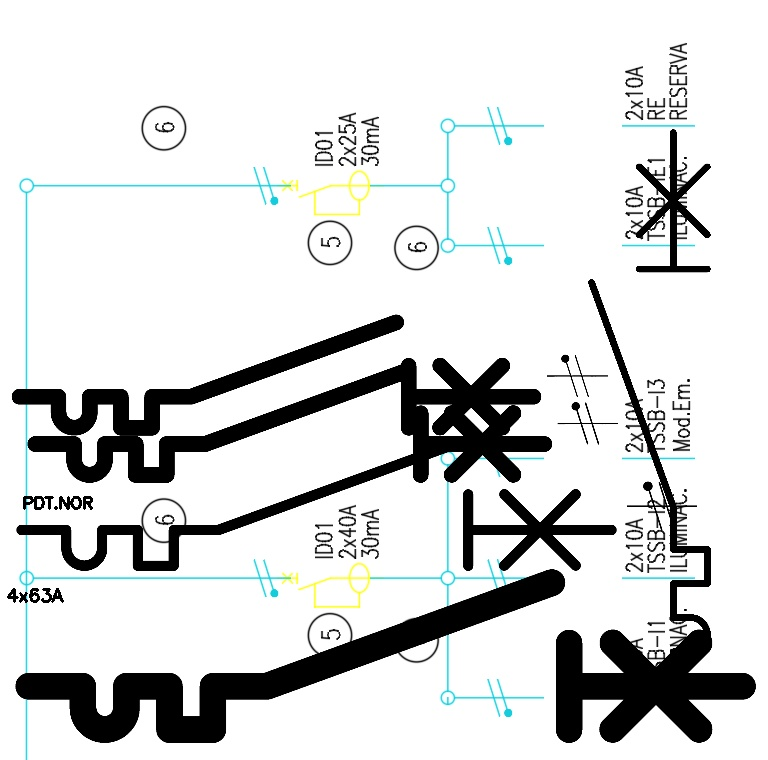interruptor_termomagnetico: (10, 564, 761, 748), (6, 429, 626, 581), (577, 118, 722, 709), (6, 309, 547, 441), (22, 357, 557, 488)
